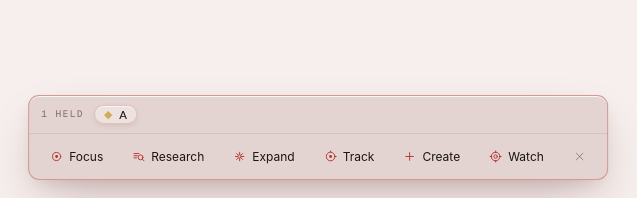
Test case: Create menu is server-driven › asks the server what it can build instead of hard-coding styles
The image size is (637, 198).
Click the button "Create": (432, 156) [390, 141, 473, 172]
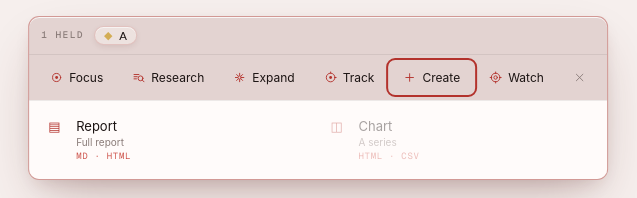
Check: the menu item "▤ Report Full report md · html" is shown, box [37, 109, 316, 171]
